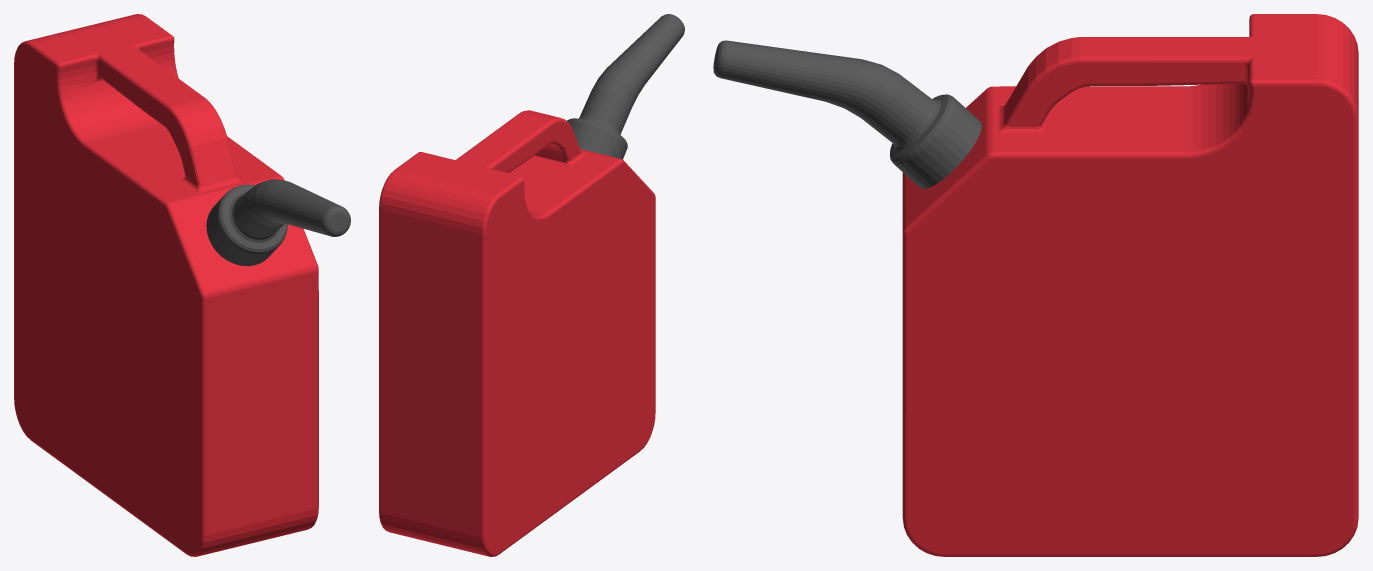
The model's file is gasoline.fbx.
3 views of the same model, side by side, from view 1: azimuth 30°, elevation 25°; view 2: azimuth 150°, elevation 25°; view 3: azimuth 270°, elevation 25° (orthographic). The views are drawn at different scales.
Parts seen in each view (by area): view 1: Cube.001; view 2: Cube.001; view 3: Cube.001.
Boxes of the visible parts, x1,y1,x2,y2 form: Cube.001: (14,14,350,556); Cube.001: (379,14,684,556); Cube.001: (713,14,1358,556).
Size of the model in its own units: 0.4827 by 1.57 by 1.91.
